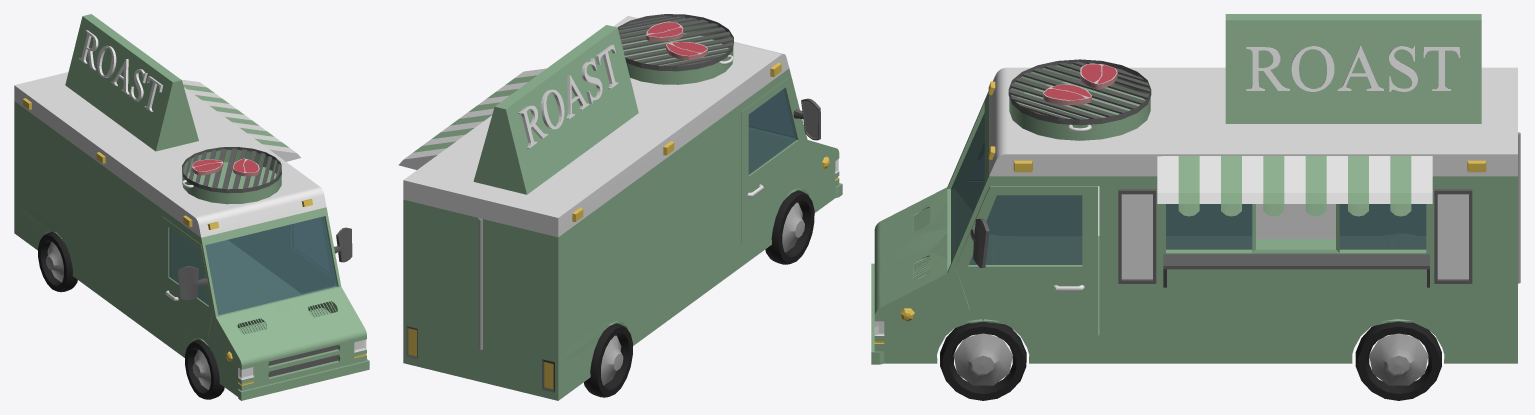
The model's file is Roast Truck.fbx.
3 views of the same model, side by side, from view 1: azimuth 30°, elevation 25°; view 2: azimuth 150°, elevation 25°; view 3: azimuth 270°, elevation 25° (orthographic). The views are drawn at different scales.
Visible parts, largest first — view 1: Roast_Truck; view 2: Roast_Truck; view 3: Roast_Truck.
Part boxes in pixels (<box>): Roast_Truck: <box>14,14,369,400</box>; Roast_Truck: <box>398,14,842,400</box>; Roast_Truck: <box>871,14,1520,400</box>.
Size of the model in its own units: 2.98 by 3.65 by 6.34.
